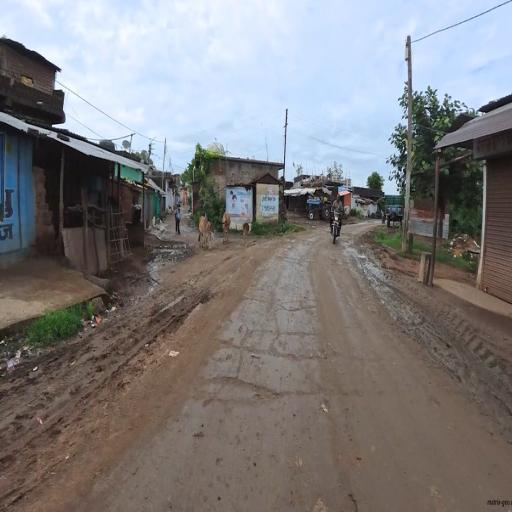longitudinal_crack: (206, 260, 343, 419)
